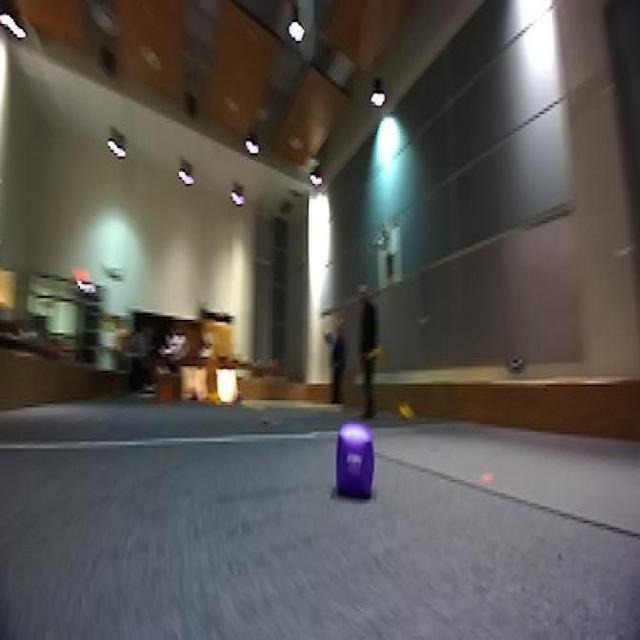frc_cone: (396, 396, 414, 421), (202, 388, 223, 405), (366, 344, 384, 362)
frc_cube: (332, 426, 374, 497), (186, 386, 200, 404), (234, 390, 247, 407)
